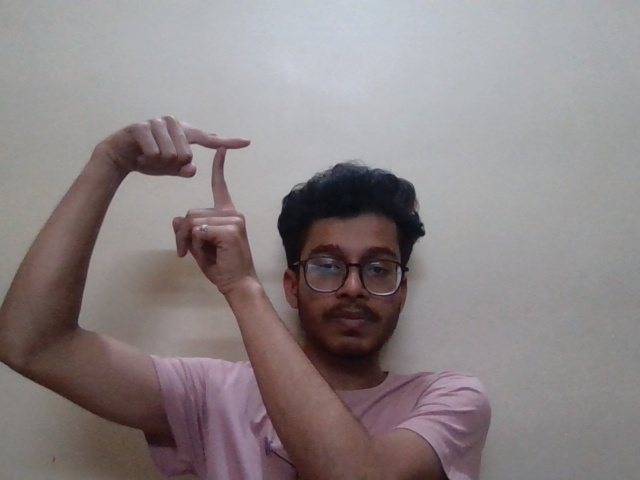T: (151, 113, 274, 274)
